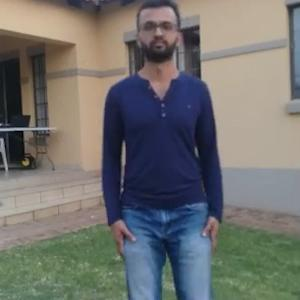follow: (107, 15, 215, 299)
